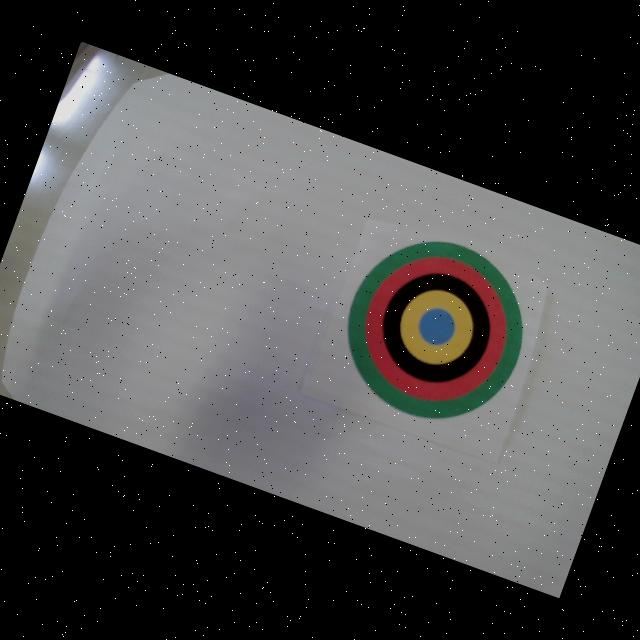COGNITIVE: (322, 216, 548, 444)
